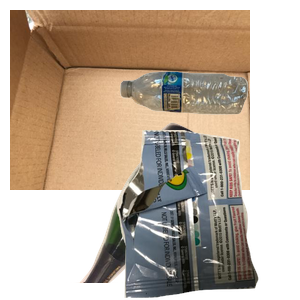cardboard: (10, 10, 250, 190)
glass: (66, 120, 279, 300)
plastic: (118, 69, 300, 176)
trash: (114, 130, 300, 300)
